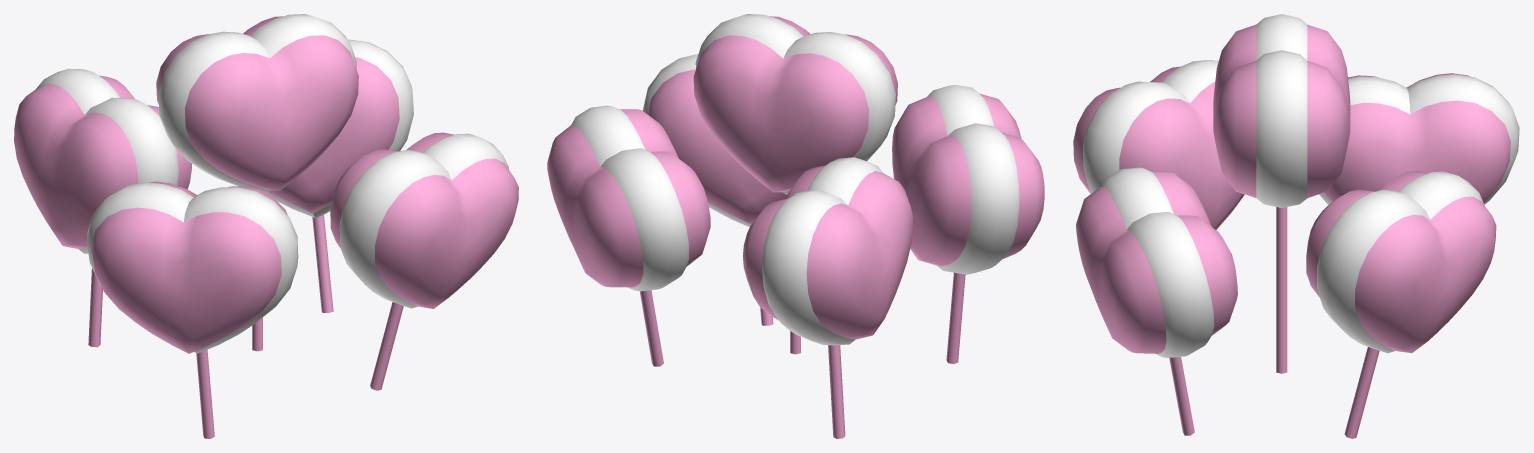
Rendered from Cake_ThemeValentine_D.FBX.
The picture shows the model from 3 angles, left to right: view 1: azimuth 30°, elevation 25°; view 2: azimuth 150°, elevation 25°; view 3: azimuth 270°, elevation 25°; orthographic projection. The views are drawn at different scales.
Visible parts, largest first — view 1: Cake_ThemeValentine_D; view 2: Cake_ThemeValentine_D; view 3: Cake_ThemeValentine_D.
Part boxes in pixels (x1,y1,x2,y2): Cake_ThemeValentine_D: (14, 14, 518, 438); Cake_ThemeValentine_D: (547, 14, 1044, 438); Cake_ThemeValentine_D: (1073, 14, 1519, 438).
Size of the model in its own units: 103278 by 85729 by 96999.
